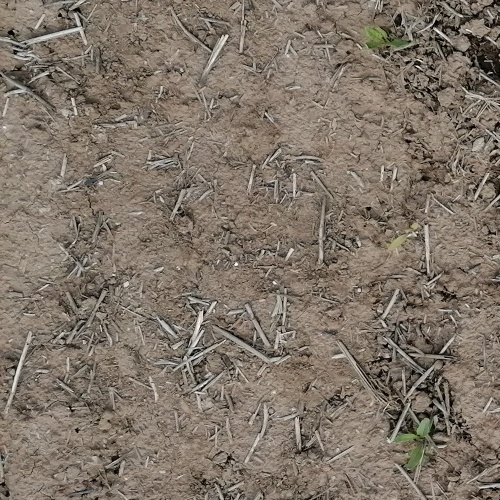beet: (393, 419, 430, 470), (366, 26, 410, 48)
